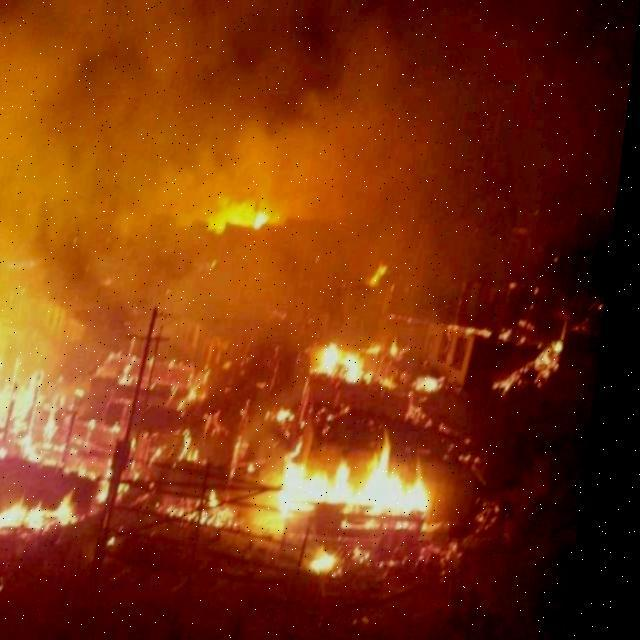Fire: (0, 352, 269, 532), (278, 440, 462, 576), (314, 330, 392, 388)
